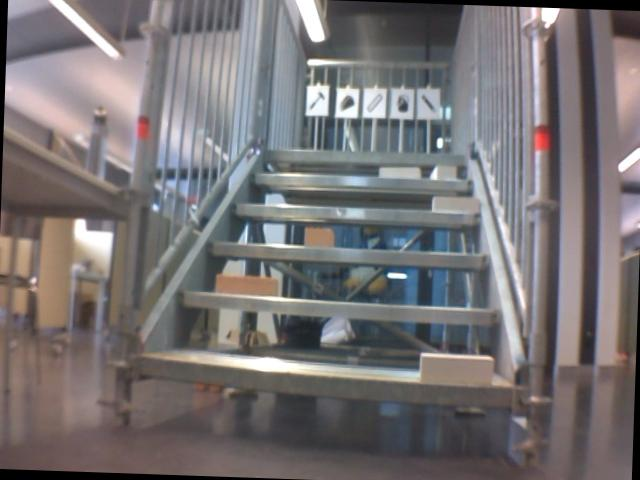brick: (419, 352, 493, 385), (216, 275, 278, 297), (433, 196, 479, 212), (303, 226, 333, 246), (379, 166, 419, 178), (430, 165, 455, 179)
bucket: (393, 92, 412, 114)
edge: (136, 355, 509, 404), (178, 292, 501, 324), (208, 242, 491, 266), (229, 203, 484, 224), (251, 173, 472, 191), (260, 147, 466, 166)
hammer: (306, 89, 326, 113)
pencil: (418, 93, 440, 114)
ruler: (364, 91, 384, 114)
steps: (129, 136, 520, 412)
taco: (337, 92, 357, 113)
